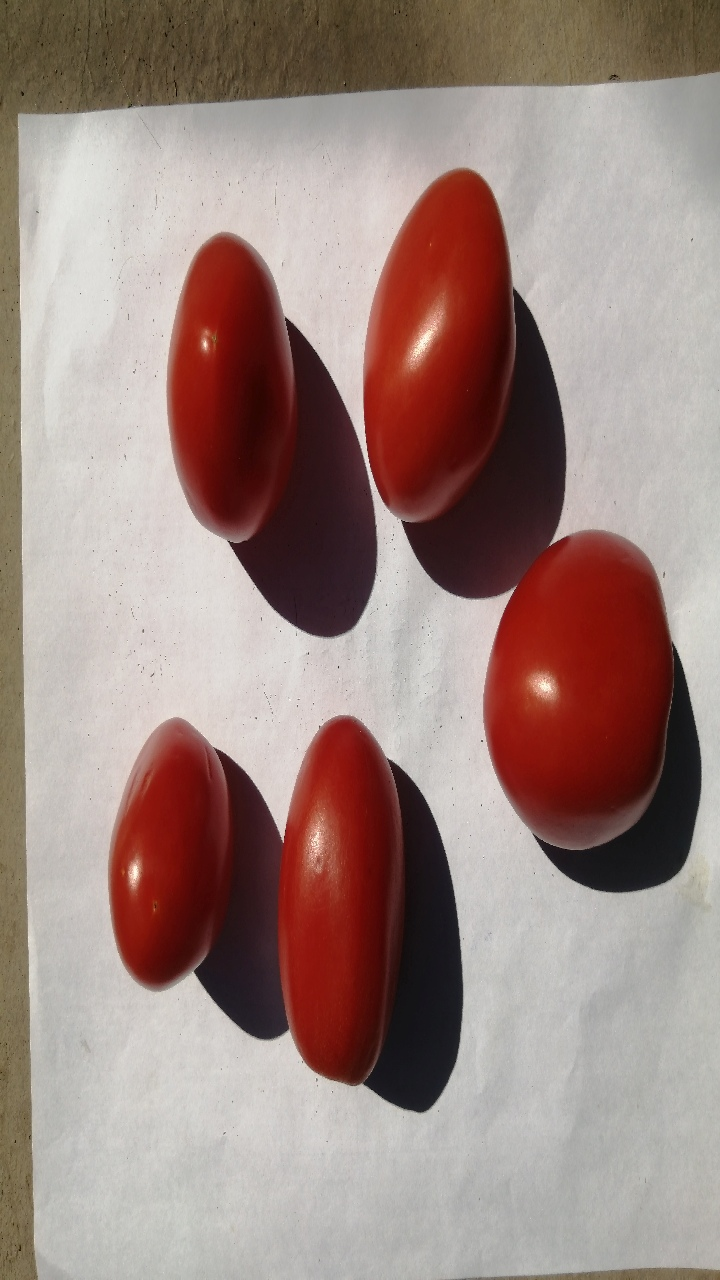tomateRojo: (475, 522, 694, 879), (337, 149, 535, 534), (141, 208, 312, 565), (263, 703, 411, 1099), (77, 711, 246, 999)
